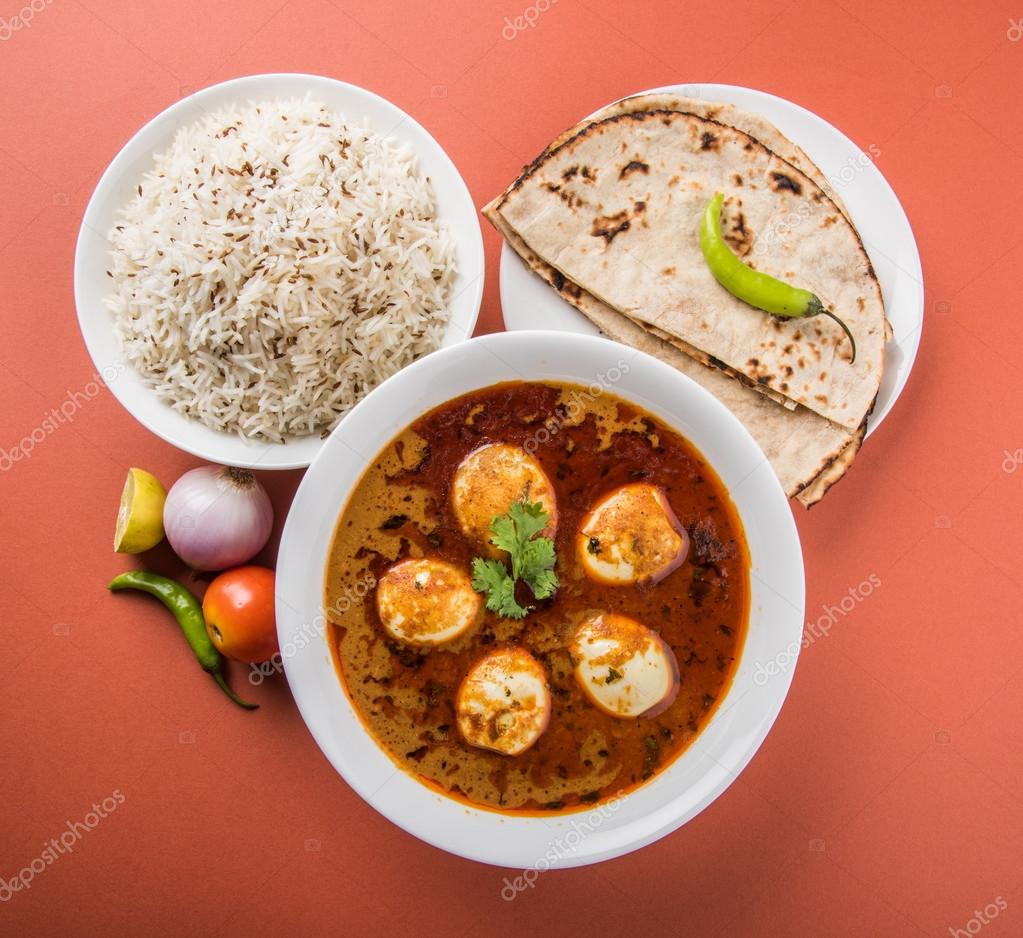curry: (345, 393, 726, 805)
egg: (577, 484, 696, 593), (569, 607, 688, 716), (444, 644, 563, 753), (369, 547, 488, 656), (441, 445, 560, 554)
rice: (116, 122, 453, 415)
roti: (505, 95, 881, 364)
